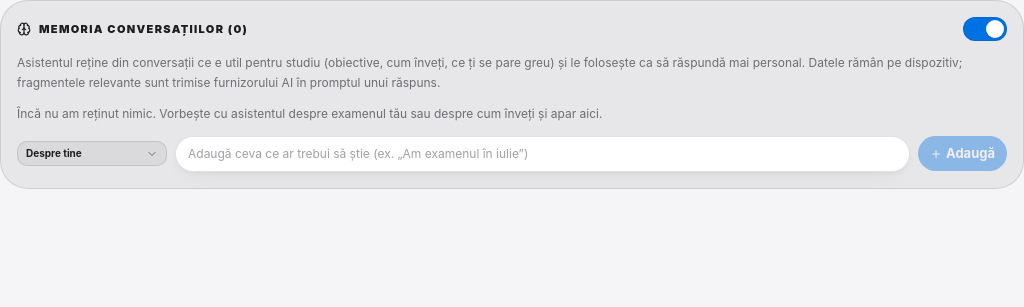
Test: ChatMemoryPanel › shows the empty state, then lets the student add a memory
This screenshot has width=1024, height=307.
Check: the text "Încă nu am reținut nimic" is shown, box [17,106,602,121]
Replace the text in the field with placeholder "Adaugă ceva ce ar trebui să știe" with "Am examenul în iulie": (542, 154) [175,136,910,172]
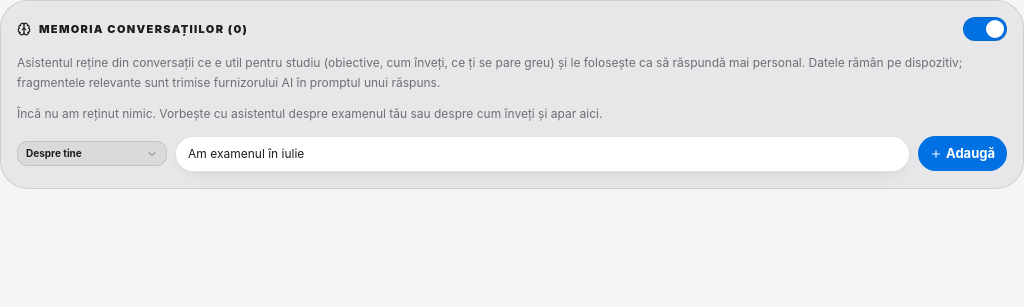
Click the button "Adaugă": click(962, 154) [918,136,1007,171]
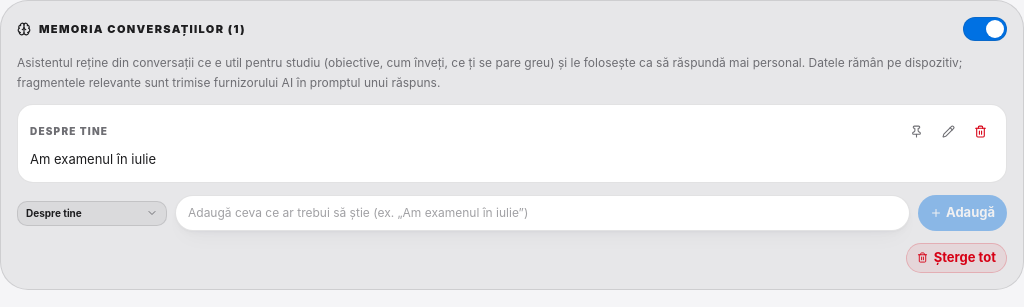
Check: the text "Am examenul în iulie" is shown, box [30,151,156,167]
